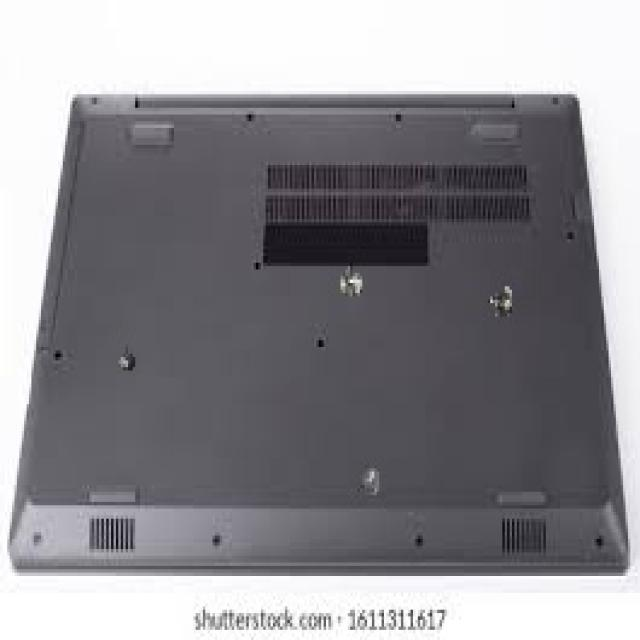lock: (488, 283, 512, 317), (338, 263, 362, 296)
missing_screw: (355, 461, 379, 495), (114, 340, 138, 374)
